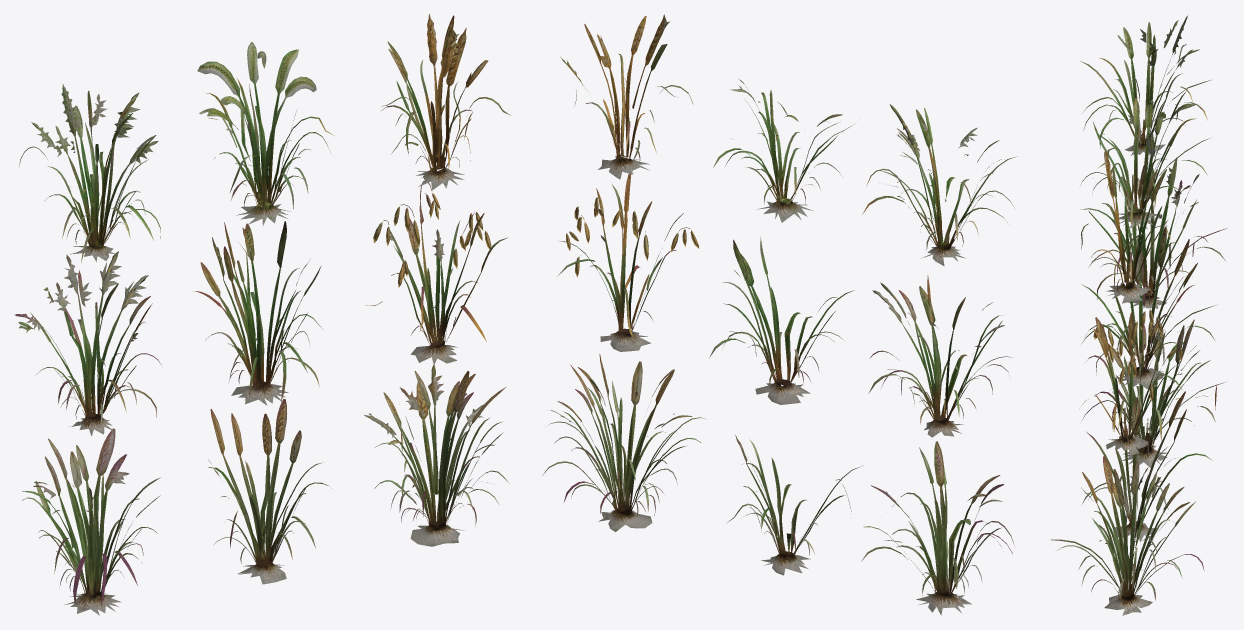
The model's file is longGrass.glb.
The picture shows the model from 3 angles, left to right: view 1: azimuth 30°, elevation 25°; view 2: azimuth 150°, elevation 25°; view 3: azimuth 270°, elevation 25°; orthographic projection. The views are drawn at different scales.
Visible parts, largest first — view 1: tripo_607ecce4_50e1_4dd3_b539_165fb1628fc1; view 2: tripo_607ecce4_50e1_4dd3_b539_165fb1628fc1; view 3: tripo_607ecce4_50e1_4dd3_b539_165fb1628fc1.
Part boxes in pixels (x1,y1,x2,y2): tripo_607ecce4_50e1_4dd3_b539_165fb1628fc1: (15, 14, 511, 615); tripo_607ecce4_50e1_4dd3_b539_165fb1628fc1: (542, 14, 1016, 615); tripo_607ecce4_50e1_4dd3_b539_165fb1628fc1: (1051, 16, 1227, 615).
Bounding box in the file's own units: 0.937 × 0.9995 × 0.3677.
Materials: 1 (1 with a texture image).
